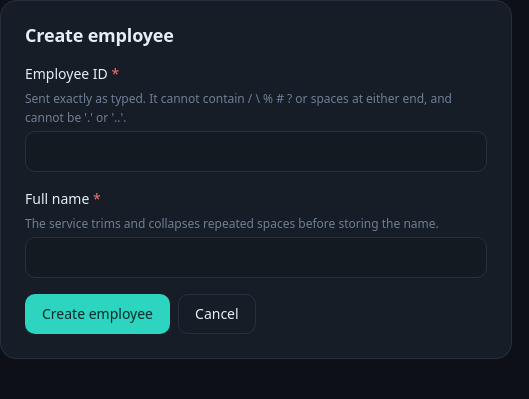
Test: create employee form › maps a pydantic field path onto the name field
Type "EMP-1" into the field labelled "Employee ID *" at (256, 152), box [25,131,487,172]
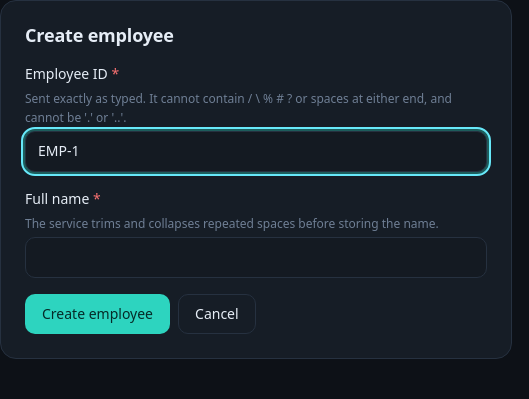
Type "Ada Example" into the field labelled "Full name *" at (256, 258), box [25,237,487,278]
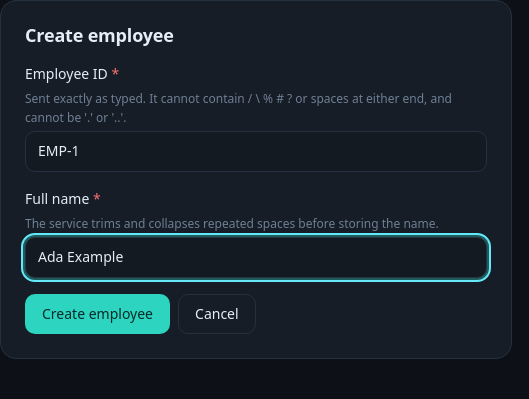
Click the button "Create employee" at (98, 314), box [25,294,170,334]
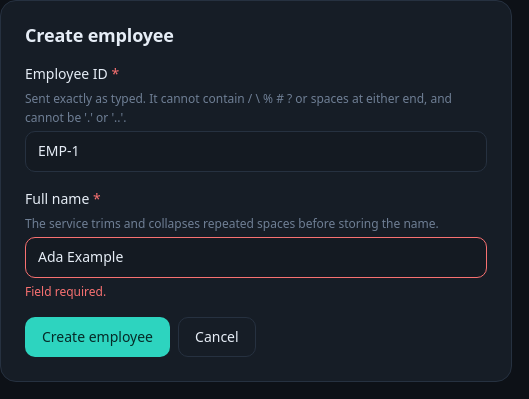
Expected: the text "Field required." is shown, [25,283,106,300]
